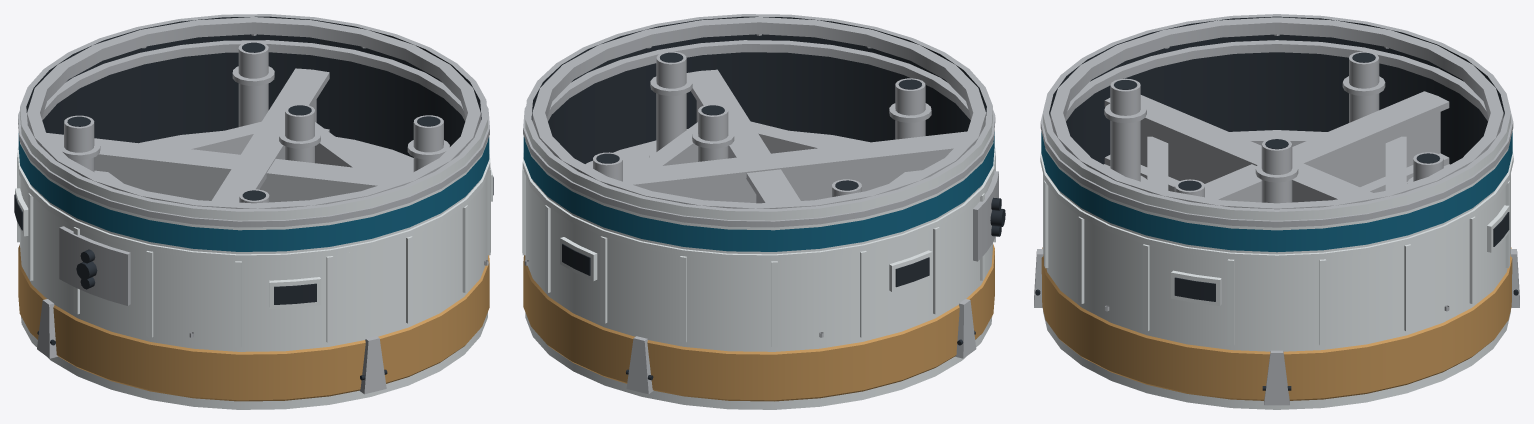
The model's file is mount_s1_5_d15.glb.
3 renders of one model, left to right at view 1: azimuth 30°, elevation 25°; view 2: azimuth 150°, elevation 25°; view 3: azimuth 270°, elevation 25°, orthographic.
Visible parts, largest first — view 1: mount_s1_5_d15_mesh; view 2: mount_s1_5_d15_mesh; view 3: mount_s1_5_d15_mesh.
Part boxes in pixels (bbox=[...]): mount_s1_5_d15_mesh: bbox=[14, 14, 493, 409]; mount_s1_5_d15_mesh: bbox=[522, 14, 1005, 409]; mount_s1_5_d15_mesh: bbox=[1034, 14, 1519, 409].
Size of the model in its own units: 1.56 by 0.7 by 1.56.
